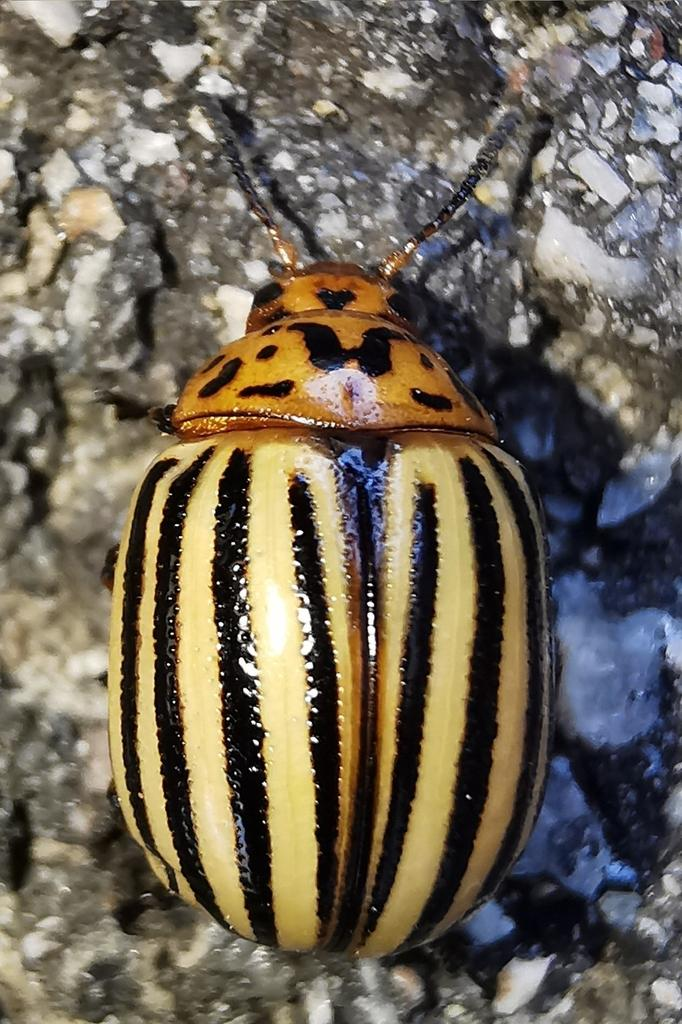potato_beetle: (0, 4, 682, 1024)
